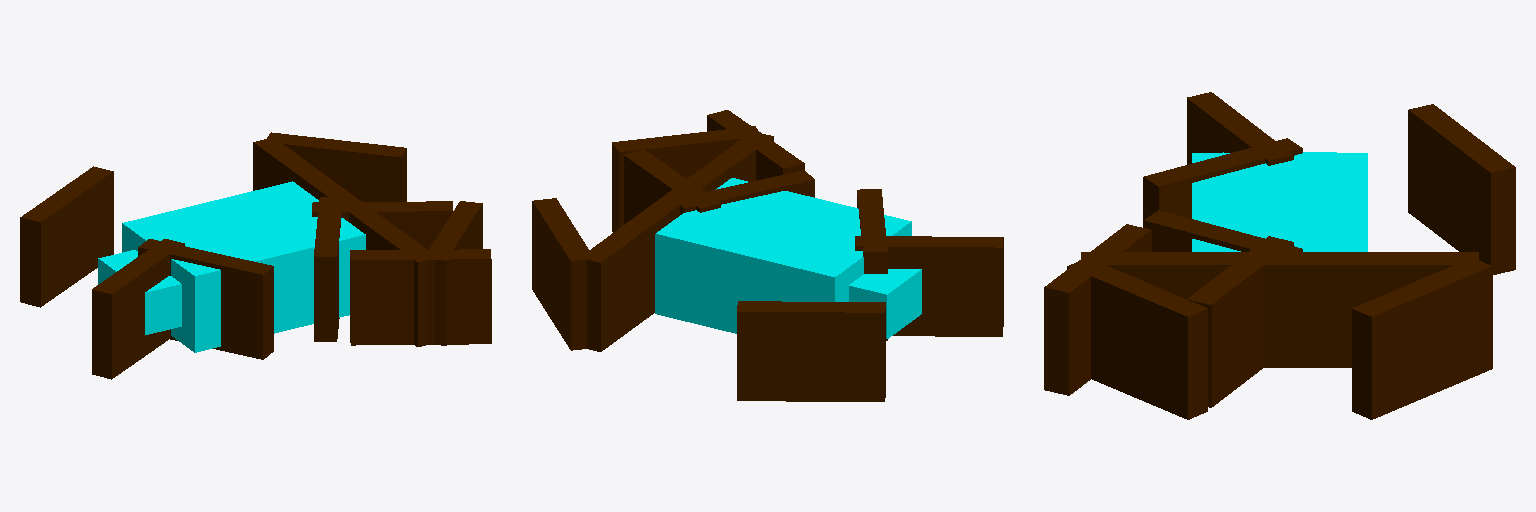
robot.urdf — roballos:
<?xml version="1.0" ?>
<!-- =================================================================================== -->
<!-- |    This document was autogenerated by xacro from robot_description.xacro        | -->
<!-- |    EDITING THIS FILE BY HAND IS NOT RECOMMENDED                                 | -->
<!-- =================================================================================== -->
<robot name="roballos">
  <material name="corps">
    <color rgba="0.3 1. 0.3 1.0"/>
  </material>
  <material name="reste">
    <color rgba="1. 0.3 0.3 1.0"/>
  </material>
  <!-- Robot Base -->
  <gazebo reference="base_link">
    <visual>
      <material>
        <ambient>0.3 1. 0.3 1.0</ambient>
        <diffuse>0.3 1. 0.3 1.0</diffuse>
        <specular>0.3 1. 0.3 1.0</specular>
        <emissive>0.3 1. 0.3 1.0</emissive>
      </material>
    </visual>
  </gazebo>
  <link name="base_link">
    <visual>
      <geometry>
        <box size="0.42 0.31 0.18"/>
      </geometry>
      <material name="Cyan">
        <color rgba="0 1.0 1.0 1.0"/>
      </material>
    </visual>
    <collision>
      <geometry>
        <box size="0.42 0.31 0.18"/>
      </geometry>
    </collision>
    <inertial>
      <origin rpy="1.5707963267948966 0 1.5707963267948966" xyz="0 0 0"/>
      <mass value="15"/>
      <inertia ixx="0.261" ixy="0.0" ixz="0.0" iyy="0.34062499999999996" iyz="0.0" izz="0.16062500000000002"/>
    </inertial>
  </link>
  <!-- Robot Footprint -->
  <link name="base_footprint">
    <inertial>
      <origin rpy="1.5707963267948966 0 1.5707963267948966" xyz="0 0 0"/>
      <mass value="0"/>
      <inertia ixx="0.0" ixy="0.0" ixz="0.0" iyy="0.0" iyz="0.0" izz="0.0"/>
    </inertial>
  </link>
  <joint name="base_joint" type="fixed">
    <parent link="base_link"/>
    <child link="base_footprint"/>
    <origin rpy="0 0 0" xyz="0.0 0.0 -0.15000000000000002"/>
  </joint>
  <!--contrepoids-->
  <gazebo reference="battery">
    <visual>
      <material>
        <ambient>0.3 1. 0.3 1.0</ambient>
        <diffuse>0.3 1. 0.3 1.0</diffuse>
        <specular>0.3 1. 0.3 1.0</specular>
        <emissive>0.3 1. 0.3 1.0</emissive>
      </material>
    </visual>
  </gazebo>
  <link name="battery">
    <visual>
      <geometry>
        <box size="0.1 0.2 0.1"/>
      </geometry>
      <material name="Cyan">
        <color rgba="0 1.0 1.0 1.0"/>
      </material>
    </visual>
    <collision>
      <geometry>
        <box size="0.1 0.2 0.1"/>
      </geometry>
    </collision>
    <inertial>
      <origin rpy="1.5707963267948966 0 1.5707963267948966" xyz="0 0 0"/>
      <mass value="5"/>
      <inertia ixx="0.02083333333333334" ixy="0.0" ixz="0.0" iyy="0.02083333333333334" iyz="0.0" izz="0.008333333333333335"/>
    </inertial>
  </link>
  <joint name="battery_joint" type="fixed">
    <parent link="base_link"/>
    <child link="battery"/>
    <origin rpy="0 0 0" xyz="-0.25 0. 0."/>
  </joint>
  <!-- Wheels -->
  <gazebo reference="drivewhl_l_link">
    <visual>
      <material>
        <ambient>1. 0.3 0.3 1.0</ambient>
        <diffuse>1. 0.3 0.3 1.0</diffuse>
        <specular>1. 0.3 0.3 1.0</specular>
        <emissive>1. 0.3 0.3 1.0</emissive>
      </material>
    </visual>
  </gazebo>
  <gazebo reference="drivewhl_r_link">
    <visual>
      <material>
        <ambient>1. 0.3 0.3 1.0</ambient>
        <diffuse>1. 0.3 0.3 1.0</diffuse>
        <specular>1. 0.3 0.3 1.0</specular>
        <emissive>1. 0.3 0.3 1.0</emissive>
      </material>
    </visual>
  </gazebo>
  <gazebo reference="segment_central">
    <visual>
      <material>
        <ambient>1. 0.3 0.3 1.0</ambient>
        <diffuse>1. 0.3 0.3 1.0</diffuse>
        <specular>1. 0.3 0.3 1.0</specular>
        <emissive>1. 0.3 0.3 1.0</emissive>
      </material>
    </visual>
  </gazebo>
  <link name="segment_central">
    <visual>
      <geometry>
        <box size="0.7 0.05 0.2"/>
      </geometry>
      <material name="Brown">
        <color rgba="0.30 0.15 0.0 1.0"/>
      </material>
    </visual>
    <collision>
      <origin rpy="0 0 0" xyz="0 0 0"/>
      <geometry>
        0 0.0 0.0 1.0
                    
        <box size="0.7 0.05 0.2"/>
      </geometry>
    </collision>
    <inertial>
      <origin rpy="1.5707963267948966 0 1.5707963267948966" xyz="0 0 0"/>
      <mass value="0.1"/>
      <inertia ixx="0.00035416666666666675" ixy="0.0" ixz="0.0" iyy="0.004104166666666666" iyz="0.0" izz="0.004416666666666666"/>
    </inertial>
  </link>
  <joint name="segment_central_joint" type="fixed">
    <parent link="base_link"/>
    <child link="segment_central"/>
    <origin rpy="0 0 1.5707963267948966" xyz="0.25 0.0 0"/>
  </joint>
  <gazebo reference="segment_d1">
    <visual>
      <material>
        <ambient>1. 0.3 0.3 1.0</ambient>
        <diffuse>1. 0.3 0.3 1.0</diffuse>
        <specular>1. 0.3 0.3 1.0</specular>
        <emissive>1. 0.3 0.3 1.0</emissive>
      </material>
    </visual>
  </gazebo>
  <link name="segment_d1">
    <visual>
      <geometry>
        <box size="0.3 0.05 0.2"/>
      </geometry>
      <material name="Brown">
        <color rgba="0.30 0.15 0.0 1.0"/>
      </material>
    </visual>
    <collision>
      <origin rpy="0 0 0" xyz="0 0 0"/>
      <geometry>
        0 0.0 0.0 1.0
                    
        <box size="0.3 0.05 0.2"/>
      </geometry>
    </collision>
    <inertial>
      <origin rpy="1.5707963267948966 0 1.5707963267948966" xyz="0 0 0"/>
      <mass value="0.1"/>
      <inertia ixx="0.00035416666666666675" ixy="0.0" ixz="0.0" iyy="0.0007708333333333333" iyz="0.0" izz="0.0010833333333333333"/>
    </inertial>
  </link>
  <joint name="segment_d1_joint" type="fixed">
    <parent link="base_link"/>
    <child link="segment_d1"/>
    <origin rpy="0 0 0.5026548245743669" xyz="-.25 .32 0"/>
  </joint>
  <gazebo reference="segment_d2">
    <visual>
      <material>
        <ambient>1. 0.3 0.3 1.0</ambient>
        <diffuse>1. 0.3 0.3 1.0</diffuse>
        <specular>1. 0.3 0.3 1.0</specular>
        <emissive>1. 0.3 0.3 1.0</emissive>
      </material>
    </visual>
  </gazebo>
  <link name="segment_d2">
    <visual>
      <geometry>
        <box size="0.3 0.05 0.2"/>
      </geometry>
      <material name="Brown">
        <color rgba="0.30 0.15 0.0 1.0"/>
      </material>
    </visual>
    <collision>
      <origin rpy="0 0 0" xyz="0 0 0"/>
      <geometry>
        0 0.0 0.0 1.0
                    
        <box size="0.3 0.05 0.2"/>
      </geometry>
    </collision>
    <inertial>
      <origin rpy="1.5707963267948966 0 1.5707963267948966" xyz="0 0 0"/>
      <mass value="0.1"/>
      <inertia ixx="0.00035416666666666675" ixy="0.0" ixz="0.0" iyy="0.0007708333333333333" iyz="0.0" izz="0.0010833333333333333"/>
    </inertial>
  </link>
  <joint name="segment_d2_joint" type="fixed">
    <parent link="base_link"/>
    <child link="segment_d2"/>
    <origin rpy="0 0 0.5026548245743669" xyz="-0.30 -0.07 0"/>
  </joint>
  <gazebo reference="segment_d3">
    <visual>
      <material>
        <ambient>1. 0.3 0.3 1.0</ambient>
        <diffuse>1. 0.3 0.3 1.0</diffuse>
        <specular>1. 0.3 0.3 1.0</specular>
        <emissive>1. 0.3 0.3 1.0</emissive>
      </material>
    </visual>
  </gazebo>
  <link name="segment_d3">
    <visual>
      <geometry>
        <box size="0.3 0.05 0.2"/>
      </geometry>
      <material name="Brown">
        <color rgba="0.30 0.15 0.0 1.0"/>
      </material>
    </visual>
    <collision>
      <origin rpy="0 0 0" xyz="0 0 0"/>
      <geometry>
        0 0.0 0.0 1.0
                    
        <box size="0.3 0.05 0.2"/>
      </geometry>
    </collision>
    <inertial>
      <origin rpy="1.5707963267948966 0 1.5707963267948966" xyz="0 0 0"/>
      <mass value="0.1"/>
      <inertia ixx="0.00035416666666666675" ixy="0.0" ixz="0.0" iyy="0.0007708333333333333" iyz="0.0" izz="0.0010833333333333333"/>
    </inertial>
  </link>
  <joint name="segment_d3_joint" type="fixed">
    <parent link="base_link"/>
    <child link="segment_d3"/>
    <origin rpy="0 0 -1.0053096491487339" xyz="-0.15 -0.1 0"/>
  </joint>
  <gazebo reference="segment_g1">
    <visual>
      <material>
        <ambient>1. 0.3 0.3 1.0</ambient>
        <diffuse>1. 0.3 0.3 1.0</diffuse>
        <specular>1. 0.3 0.3 1.0</specular>
        <emissive>1. 0.3 0.3 1.0</emissive>
      </material>
    </visual>
  </gazebo>
  <link name="segment_g1">
    <visual>
      <geometry>
        <box size="0.3 0.05 0.2"/>
      </geometry>
      <material name="Brown">
        <color rgba="0.30 0.15 0.0 1.0"/>
      </material>
    </visual>
    <collision>
      <origin rpy="0 0 0" xyz="0 0 0"/>
      <geometry>
        0 0.0 0.0 1.0
                    
        <box size="0.3 0.05 0.2"/>
      </geometry>
    </collision>
    <inertial>
      <origin rpy="1.5707963267948966 0 1.5707963267948966" xyz="0 0 0"/>
      <mass value="0.1"/>
      <inertia ixx="0.00035416666666666675" ixy="0.0" ixz="0.0" iyy="0.0007708333333333333" iyz="0.0" izz="0.0010833333333333333"/>
    </inertial>
  </link>
  <joint name="segment_g1_joint" type="fixed">
    <parent link="base_link"/>
    <child link="segment_g1"/>
    <origin rpy="0 0 -0.5026548245743669" xyz="0.25 -0.32 0"/>
  </joint>
  <gazebo reference="segment_g2_joint">
    <visual>
      <material>
        <ambient>1. 0.3 0.3 1.0</ambient>
        <diffuse>1. 0.3 0.3 1.0</diffuse>
        <specular>1. 0.3 0.3 1.0</specular>
        <emissive>1. 0.3 0.3 1.0</emissive>
      </material>
    </visual>
  </gazebo>
  <link name="segment_g2_joint">
    <visual>
      <geometry>
        <box size="0.3 0.05 0.2"/>
      </geometry>
      <material name="Brown">
        <color rgba="0.30 0.15 0.0 1.0"/>
      </material>
    </visual>
    <collision>
      <origin rpy="0 0 0" xyz="0 0 0"/>
      <geometry>
        0 0.0 0.0 1.0
                    
        <box size="0.3 0.05 0.2"/>
      </geometry>
    </collision>
    <inertial>
      <origin rpy="1.5707963267948966 0 1.5707963267948966" xyz="0 0 0"/>
      <mass value="0.1"/>
      <inertia ixx="0.00035416666666666675" ixy="0.0" ixz="0.0" iyy="0.0007708333333333333" iyz="0.0" izz="0.0010833333333333333"/>
    </inertial>
  </link>
  <joint name="segment_g2_joint_joint" type="fixed">
    <parent link="base_link"/>
    <child link="segment_g2_joint"/>
    <origin rpy="0 0 -0.5026548245743669" xyz="0.30 -0.07 0"/>
  </joint>
  <gazebo reference="segment_g3">
    <visual>
      <material>
        <ambient>1. 0.3 0.3 1.0</ambient>
        <diffuse>1. 0.3 0.3 1.0</diffuse>
        <specular>1. 0.3 0.3 1.0</specular>
        <emissive>1. 0.3 0.3 1.0</emissive>
      </material>
    </visual>
  </gazebo>
  <link name="segment_g3">
    <visual>
      <geometry>
        <box size="0.3 0.05 0.2"/>
      </geometry>
      <material name="Brown">
        <color rgba="0.30 0.15 0.0 1.0"/>
      </material>
    </visual>
    <collision>
      <origin rpy="0 0 0" xyz="0 0 0"/>
      <geometry>
        0 0.0 0.0 1.0
                    
        <box size="0.3 0.05 0.2"/>
      </geometry>
    </collision>
    <inertial>
      <origin rpy="1.5707963267948966 0 1.5707963267948966" xyz="0 0 0"/>
      <mass value="0.1"/>
      <inertia ixx="0.00035416666666666675" ixy="0.0" ixz="0.0" iyy="0.0007708333333333333" iyz="0.0" izz="0.0010833333333333333"/>
    </inertial>
  </link>
  <joint name="segment_g3_joint" type="fixed">
    <parent link="base_link"/>
    <child link="segment_g3"/>
    <origin rpy="0 0 1.0053096491487339" xyz="0.15 -0.1 0"/>
  </joint>
  <gazebo reference="segment_triangled">
    <visual>
      <material>
        <ambient>1. 0.3 0.3 1.0</ambient>
        <diffuse>1. 0.3 0.3 1.0</diffuse>
        <specular>1. 0.3 0.3 1.0</specular>
        <emissive>1. 0.3 0.3 1.0</emissive>
      </material>
    </visual>
  </gazebo>
  <link name="segment_triangled">
    <visual>
      <geometry>
        <box size="0.3 0.05 0.2"/>
      </geometry>
      <material name="Brown">
        <color rgba="0.30 0.15 0.0 1.0"/>
      </material>
    </visual>
    <collision>
      <origin rpy="0 0 0" xyz="0 0 0"/>
      <geometry>
        0 0.0 0.0 1.0
                    
        <box size="0.3 0.05 0.2"/>
      </geometry>
    </collision>
    <inertial>
      <origin rpy="1.5707963267948966 0 1.5707963267948966" xyz="0 0 0"/>
      <mass value="0.1"/>
      <inertia ixx="0.00035416666666666675" ixy="0.0" ixz="0.0" iyy="0.0007708333333333333" iyz="0.0" izz="0.0010833333333333333"/>
    </inertial>
  </link>
  <joint name="segment_triangled_joint" type="fixed">
    <parent link="segment_central"/>
    <child link="segment_triangled"/>
    <origin rpy="0 0 -0.7853981633974483" xyz="-0.25 -0.12 0"/>
  </joint>
  <gazebo reference="segment_triangleg">
    <visual>
      <material>
        <ambient>1. 0.3 0.3 1.0</ambient>
        <diffuse>1. 0.3 0.3 1.0</diffuse>
        <specular>1. 0.3 0.3 1.0</specular>
        <emissive>1. 0.3 0.3 1.0</emissive>
      </material>
    </visual>
  </gazebo>
  <link name="segment_triangleg">
    <visual>
      <geometry>
        <box size="0.3 0.05 0.2"/>
      </geometry>
      <material name="Brown">
        <color rgba="0.30 0.15 0.0 1.0"/>
      </material>
    </visual>
    <collision>
      <origin rpy="0 0 0" xyz="0 0 0"/>
      <geometry>
        0 0.0 0.0 1.0
                    
        <box size="0.3 0.05 0.2"/>
      </geometry>
    </collision>
    <inertial>
      <origin rpy="1.5707963267948966 0 1.5707963267948966" xyz="0 0 0"/>
      <mass value="0.1"/>
      <inertia ixx="0.00035416666666666675" ixy="0.0" ixz="0.0" iyy="0.0007708333333333333" iyz="0.0" izz="0.0010833333333333333"/>
    </inertial>
  </link>
  <joint name="segment_triangleg_joint" type="fixed">
    <parent link="segment_central"/>
    <child link="segment_triangleg"/>
    <origin rpy="0 0 0.7853981633974483" xyz="0.25 -0.12 0"/>
  </joint>
  <gazebo>
    <plugin filename="libgazebo_ros_diff_drive.so" name="diff_drive">
      <ros>
        <namespace>/demo</namespace>
      </ros>
      <!-- wheels -->
      <left_joint>drivewhl_l_joint</left_joint>
      <right_joint>drivewhl_r_joint</right_joint>
      <!-- kinematics -->
      <wheel_separation>0.4</wheel_separation>
      <wheel_diameter>0.2</wheel_diameter>
      <!-- limits -->
      <max_wheel_torque>20</max_wheel_torque>
      <max_wheel_acceleration>1.0</max_wheel_acceleration>
      <!-- output -->
      <publish_odom>true</publish_odom>
      <publish_odom_tf>false</publish_odom_tf>
      <publish_wheel_tf>true</publish_wheel_tf>
      <odometry_frame>odom</odometry_frame>
      <robot_base_frame>base_link</robot_base_frame>
    </plugin>
  </gazebo>
</robot>

--- Render facts (derived) ---
3 views of the same robot in one strip: view 1: azimuth 30°, elevation 25°; view 2: azimuth 150°, elevation 25°; view 3: azimuth 270°, elevation 25° (orthographic).
Model roballos with 12 links and 11 joints (11 fixed), rooted at base_link, posed all joints at 0.
Visible links, largest first — view 1: base_link, segment_g1, segment_d1, segment_d2, segment_central, segment_d3, segment_triangleg, segment_g3, segment_triangled, segment_g2_joint, battery; view 2: base_link, segment_d1, segment_central, segment_d2, segment_triangleg, segment_triangled, segment_g2_joint, battery, segment_g1, segment_g3, segment_d3; view 3: segment_central, segment_triangleg, base_link, segment_triangled, segment_d1, segment_g2_joint, segment_g1, segment_d2, segment_d3, segment_g3.
Link boxes in pixels (box(x1,y1,x2,y2)): base_link: box(122, 181, 365, 352); segment_g1: box(350, 249, 491, 345); segment_d1: box(20, 166, 113, 307); segment_d2: box(92, 239, 184, 379); segment_central: box(253, 137, 436, 346); segment_d3: box(138, 239, 273, 359); segment_triangleg: box(267, 132, 406, 201); segment_g3: box(314, 197, 342, 341); segment_triangled: box(424, 201, 482, 345); segment_g2_joint: box(312, 201, 452, 249); battery: box(98, 250, 181, 334); base_link: box(655, 178, 911, 333); segment_d1: box(737, 301, 885, 401); segment_central: box(580, 132, 773, 351); segment_d2: box(855, 236, 1003, 336); segment_triangleg: box(532, 198, 593, 350); segment_triangled: box(612, 126, 760, 232); segment_g2_joint: box(624, 150, 720, 224); battery: box(849, 269, 921, 338); segment_g1: box(707, 110, 804, 180); segment_g3: box(673, 170, 814, 214); segment_d3: box(857, 189, 887, 340); segment_central: box(1081, 252, 1478, 367); segment_triangleg: box(1352, 258, 1492, 419); base_link: box(1192, 153, 1367, 251); segment_triangled: box(1067, 258, 1207, 419); segment_d1: box(1408, 104, 1515, 274); segment_g2_joint: box(1187, 236, 1293, 407); segment_g1: box(1044, 224, 1151, 395); segment_d2: box(1187, 92, 1293, 165); segment_d3: box(1143, 138, 1302, 219); segment_g3: box(1143, 210, 1302, 251).
Bounding box of the posed robot: 0.9372 × 0.8283 × 0.2 m (x, y, z).
Geometry: primitives only (box / cylinder / sphere), no mesh files.
